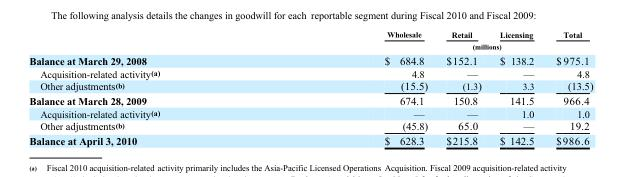table: (28, 29, 592, 146)
table column: (28, 29, 271, 146), (271, 29, 436, 146), (489, 29, 544, 146), (436, 29, 489, 146), (544, 29, 592, 146)
table column header: (28, 29, 592, 52)
table row: (28, 52, 592, 66), (28, 92, 592, 106), (28, 132, 592, 146), (28, 66, 592, 79), (28, 79, 592, 92), (28, 106, 592, 119), (28, 119, 592, 132), (28, 40, 592, 52), (28, 29, 592, 40)
table spanning cell: (271, 40, 592, 52)
